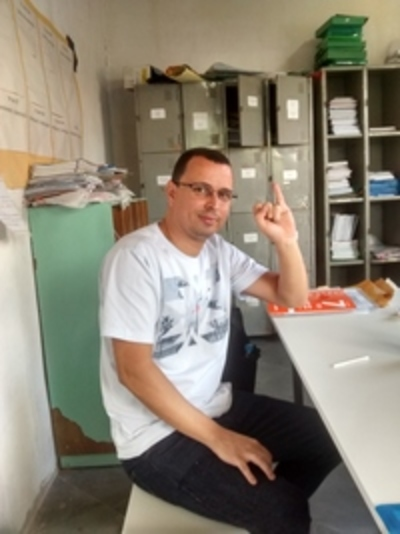closedhandfront: (254, 202, 301, 249)
mindinho: (233, 458, 261, 494), (273, 175, 293, 209)
